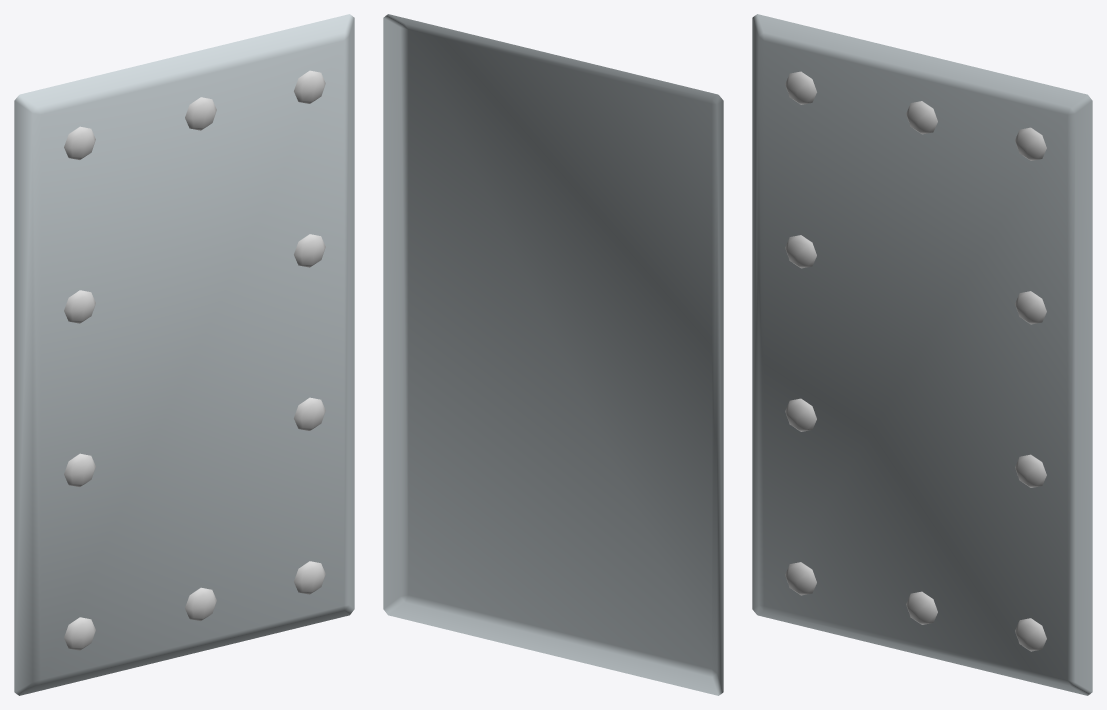
Rendered from wallplate_003.fbx.
The picture shows the model from 3 angles, left to right: view 1: azimuth 30°, elevation 25°; view 2: azimuth 150°, elevation 25°; view 3: azimuth 330°, elevation 25°; orthographic projection.
Parts seen in each view (by area): view 1: wallplate_003; view 2: wallplate_003; view 3: wallplate_003.
Boxes of the visible parts, <box> form: wallplate_003: <box>14,14,354,695</box>; wallplate_003: <box>383,14,723,695</box>; wallplate_003: <box>752,14,1092,695</box>.
Size of the model in its own units: 1363 by 86.99 by 2302.
